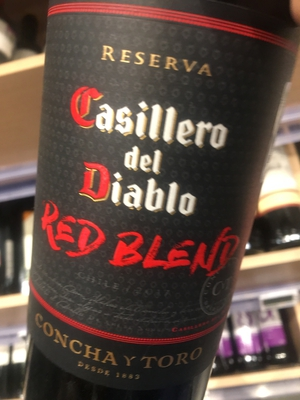casillero del diablo red blend: (30, 7, 288, 400)
